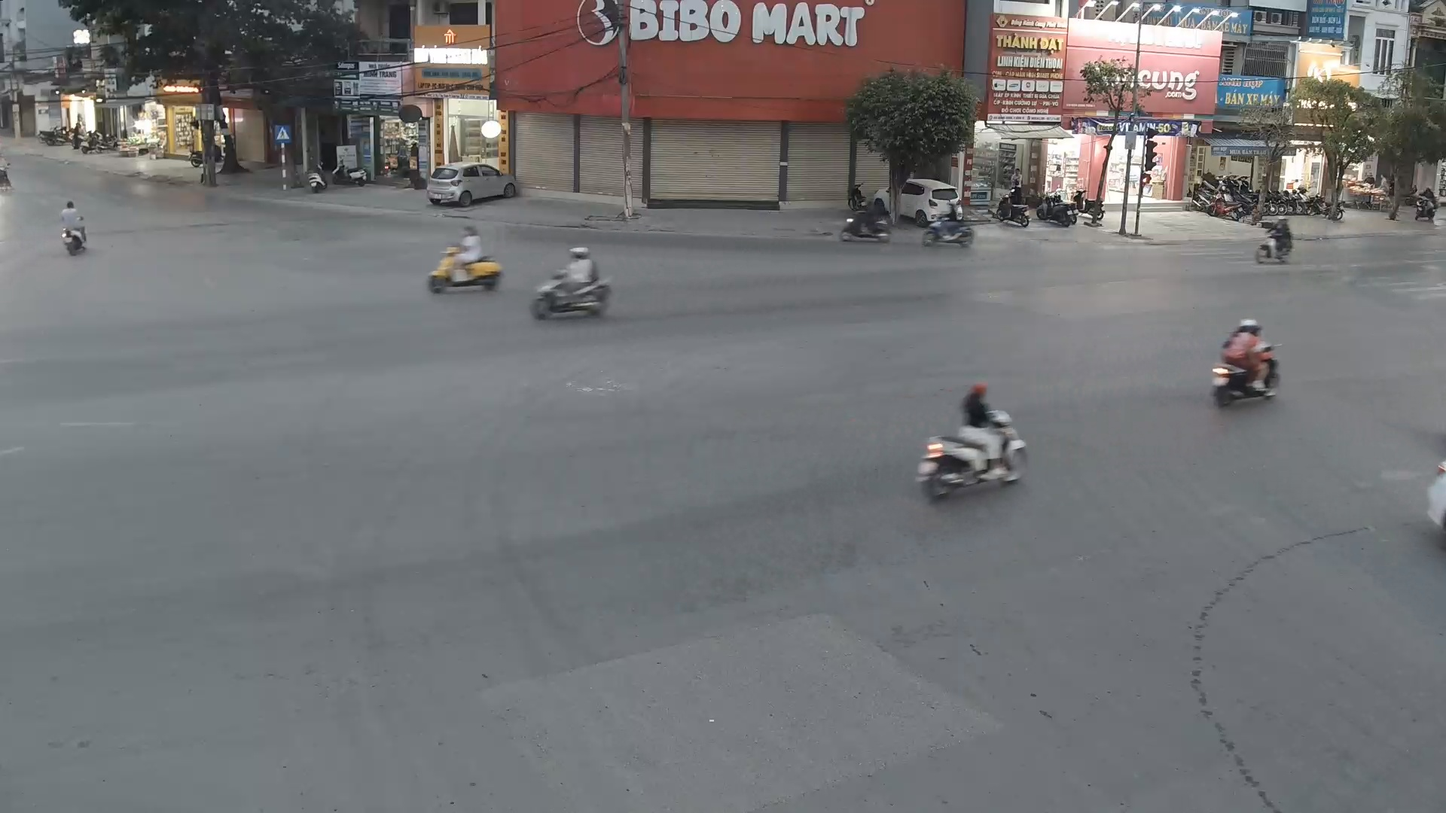car: (426, 161, 520, 209)
motorbike: (914, 381, 1028, 503), (1208, 318, 1284, 409), (527, 243, 615, 321), (425, 222, 506, 295), (839, 195, 893, 244), (1255, 216, 1295, 266), (58, 197, 88, 257)
